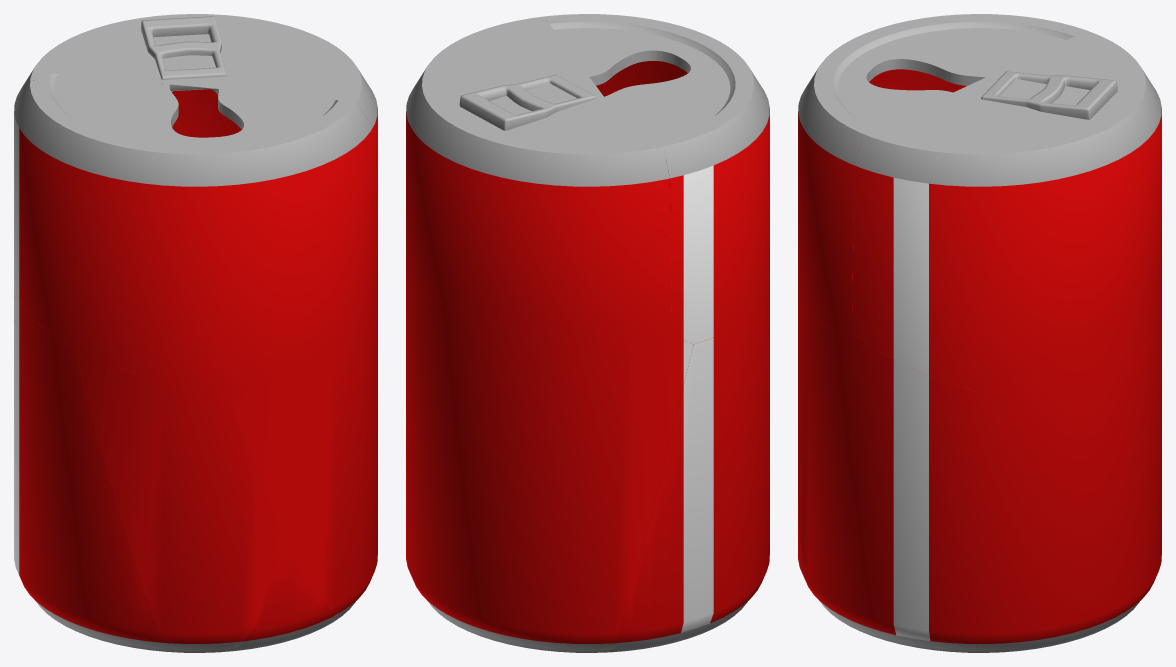
File: soda-can-fractured-original.fbx
The picture shows the model from 3 angles, left to right: view 1: azimuth 30°, elevation 25°; view 2: azimuth 150°, elevation 25°; view 3: azimuth 270°, elevation 25°; orthographic projection.
Visible parts, largest first — view 1: pCylinder19_cell, pCylinder19_cell.003, pCylinder19_cell.006, pCylinder19_cell.004, pCylinder19_cell.005, polySurface2, pCylinder19_cell.001, pCube86; view 2: pCylinder19_cell.002, pCylinder19_cell.005, pCylinder19_cell.006, pCylinder19_cell, polySurface2, pCube86; view 3: pCylinder19_cell.005, pCylinder19_cell.002, pCylinder19_cell.004, pCylinder19_cell, polySurface2, pCube86.
Part boxes in pixels (bbox=[...]): pCylinder19_cell: bbox=[14, 80, 372, 390]; pCylinder19_cell.003: bbox=[74, 351, 282, 652]; pCylinder19_cell.006: bbox=[14, 289, 173, 652]; pCylinder19_cell.004: bbox=[225, 290, 377, 620]; pCylinder19_cell.005: bbox=[14, 14, 377, 297]; polySurface2: bbox=[39, 74, 342, 146]; pCylinder19_cell.001: bbox=[226, 541, 335, 651]; pCube86: bbox=[141, 16, 226, 91]; pCylinder19_cell.002: bbox=[406, 286, 693, 652]; pCylinder19_cell.005: bbox=[406, 16, 671, 334]; pCylinder19_cell.006: bbox=[609, 309, 769, 652]; pCylinder19_cell: bbox=[543, 14, 769, 344]; polySurface2: bbox=[554, 28, 730, 154]; pCube86: bbox=[459, 74, 596, 130]; pCylinder19_cell.005: bbox=[852, 25, 1161, 391]; pCylinder19_cell.002: bbox=[976, 248, 1161, 652]; pCylinder19_cell.004: bbox=[798, 304, 976, 652]; pCylinder19_cell: bbox=[798, 14, 1069, 332]; polySurface2: bbox=[837, 28, 1065, 132]; pCube86: bbox=[981, 71, 1117, 119].
Size of the model in its own units: 729 by 1127 by 729.
